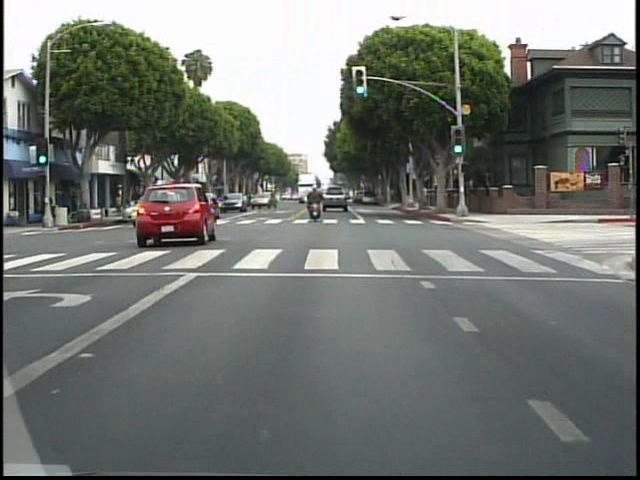person: (306, 179, 329, 224)
